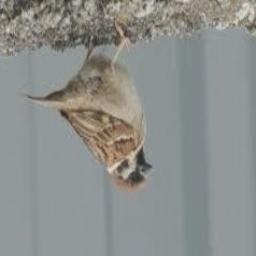Sparrow: (23, 25, 154, 192)
